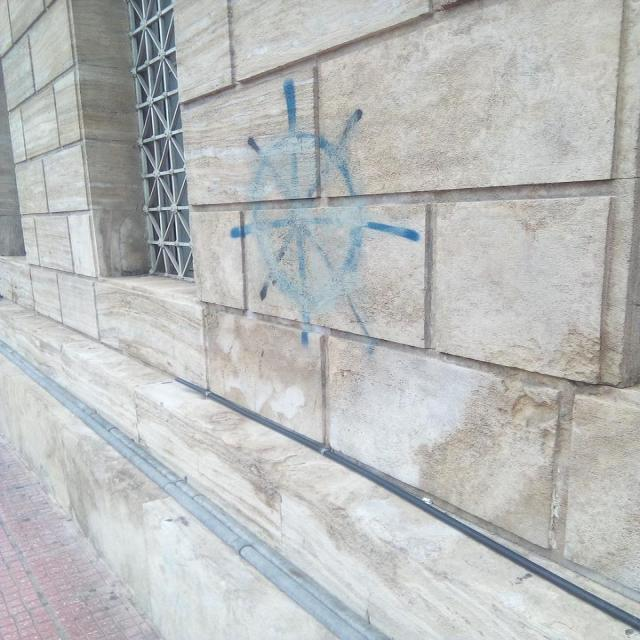nonspitting: (229, 76, 422, 350)
